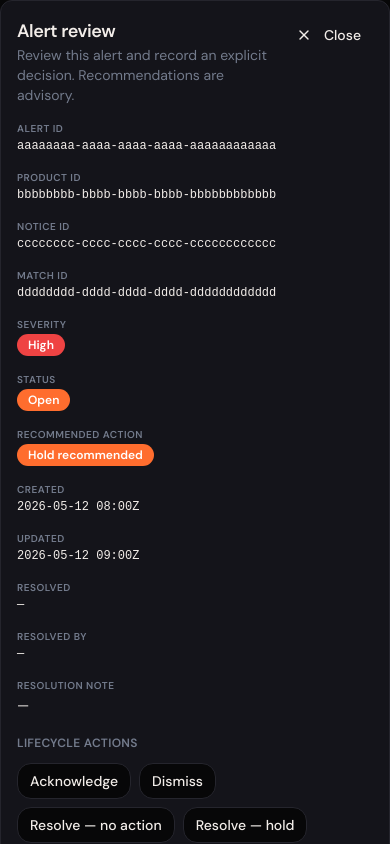
Test: RegulatoryAlertDetailPanel — mutation feedback › pending mutation disables confirm and shows a pending label
Click the button with test id "regulatory-action-acknowledge".
click(74, 781)  # box [17,763,131,799]
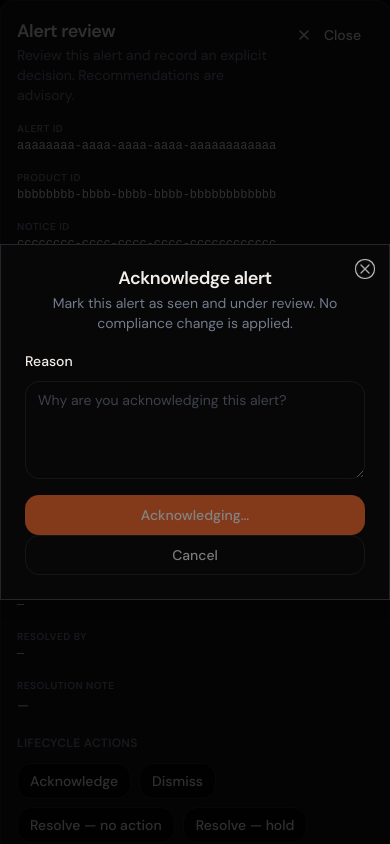
Now the button with test id "regulatory-resolution-confirm" is disabled, box [25,495,365,535]
Now the button with test id "regulatory-resolution-confirm" reads "Acknowledging…", box [25,495,365,535]
